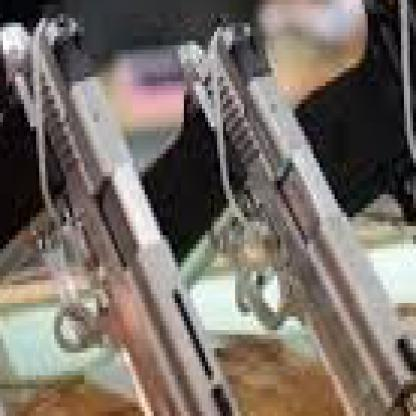gun: (148, 5, 413, 412), (0, 9, 250, 412), (304, 0, 413, 412)
